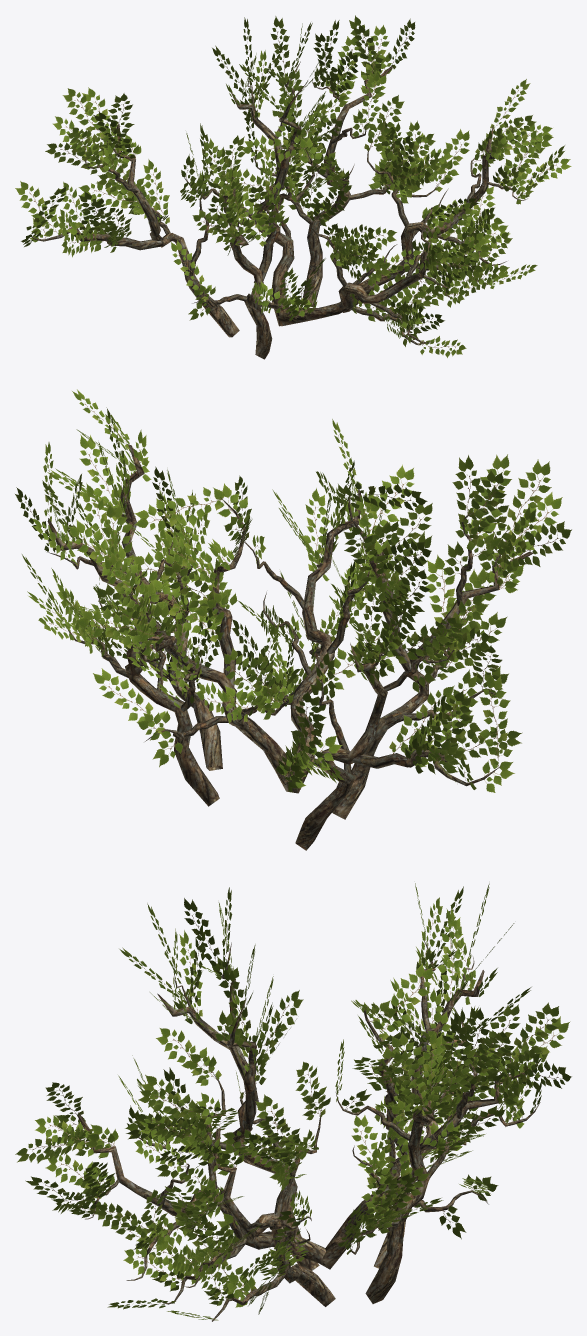
File: SmallTree.fbx
3 renders of one model, top to bottom at view 1: azimuth 30°, elevation 25°; view 2: azimuth 150°, elevation 25°; view 3: azimuth 270°, elevation 25°, orthographic. The views are drawn at different scales.
Parts seen in each view (by area): view 1: SmallTree; view 2: SmallTree; view 3: SmallTree.
Boxes of the visible parts, bbox=[...] form: SmallTree: bbox=[15, 15, 571, 359]; SmallTree: bbox=[15, 389, 571, 850]; SmallTree: bbox=[15, 883, 571, 1321].
Bounding box in the file's own units: 109 × 62.11 × 92.34.
